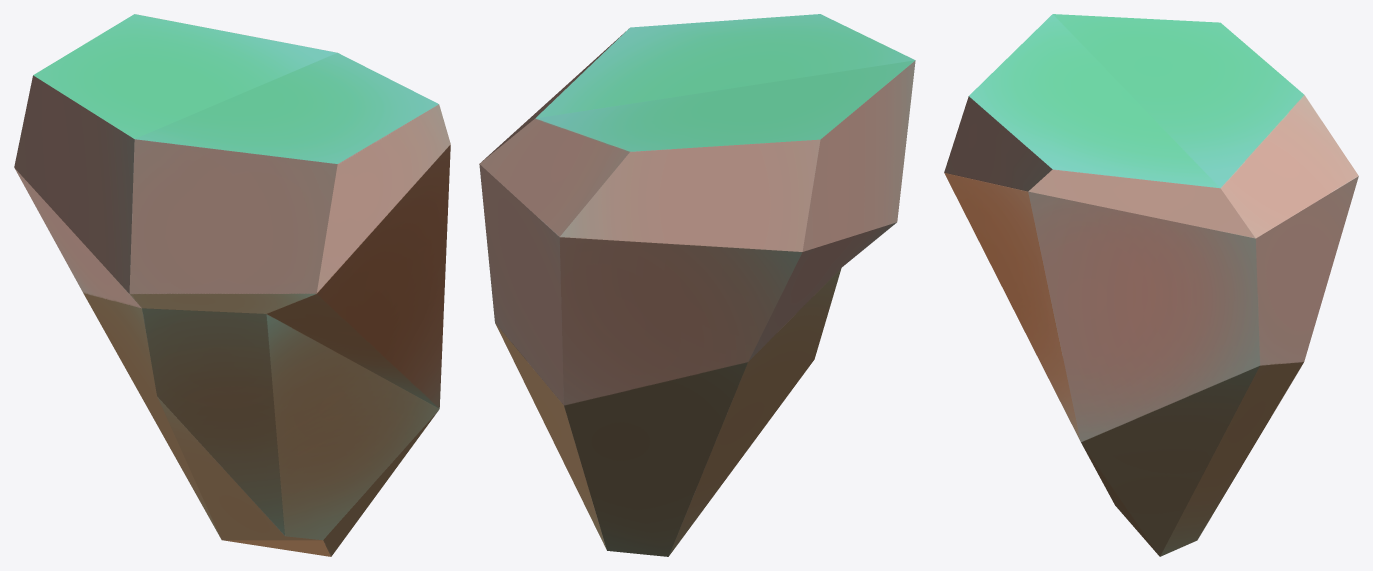
The model's file is planeta-pedaco-1.fbx.
The picture shows the model from 3 angles, left to right: view 1: azimuth 30°, elevation 25°; view 2: azimuth 150°, elevation 25°; view 3: azimuth 270°, elevation 25°; orthographic projection. The views are drawn at different scales.
Parts seen in each view (by area): view 1: planeta-pedaco-1; view 2: planeta-pedaco-1; view 3: planeta-pedaco-1.
Part boxes in pixels (left/top/right/bottom): planeta-pedaco-1: left=14, top=14, right=450, bottom=556; planeta-pedaco-1: left=479, top=14, right=915, bottom=556; planeta-pedaco-1: left=944, top=14, right=1358, bottom=556.
Size of the model in its own units: 804 by 1186 by 1019.
1 material, 1 textured.
